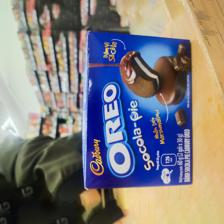Oreo: (81, 30, 194, 190)
